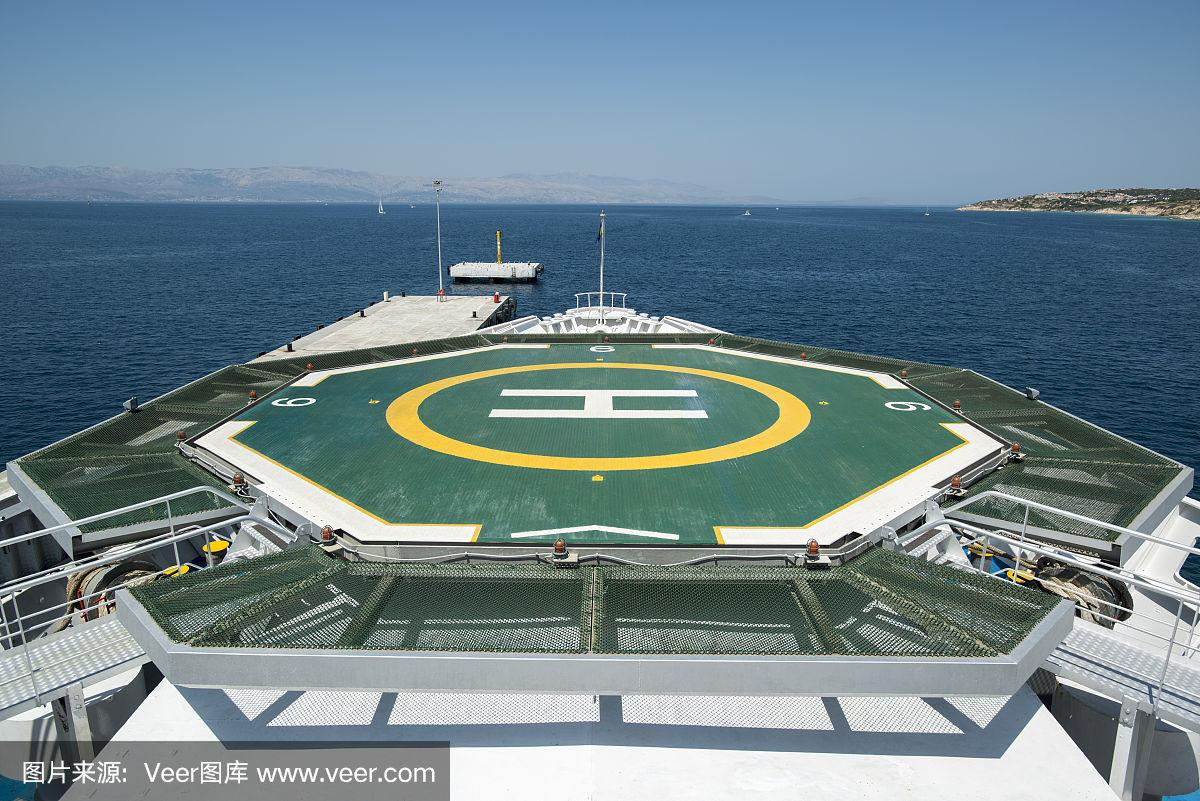Apron: (382, 359, 813, 475)
